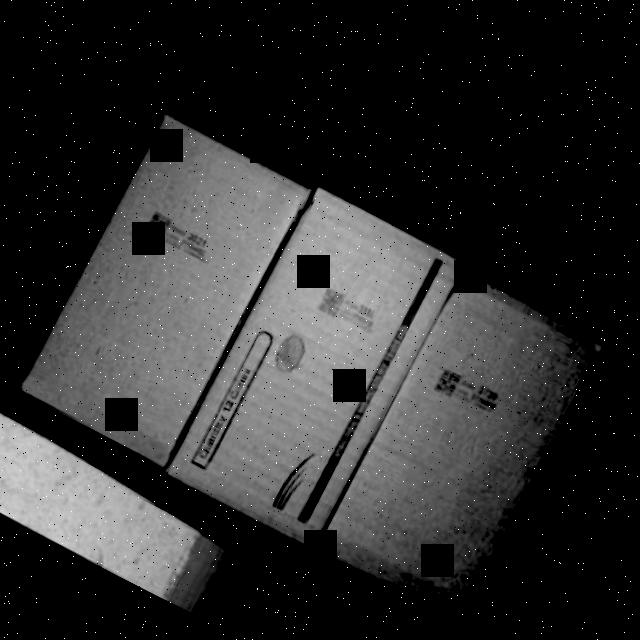box: (314, 262, 616, 630), (168, 186, 465, 551), (20, 114, 316, 474)
